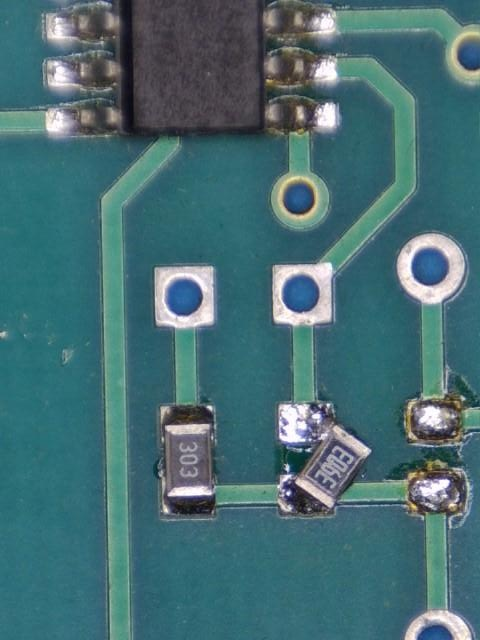pcb_defect: (276, 402, 374, 518)
